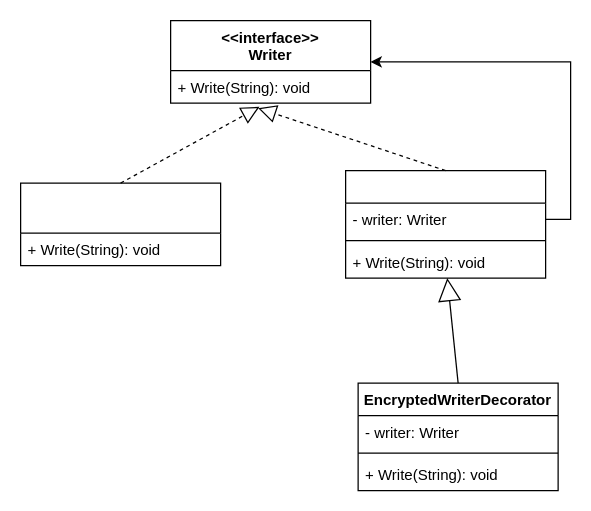
This 591x511 diagram has some shape labels left out. The box of each missing label's shape, as (x1, y1, x2, y2) in pixels:
EnglishWriter: (19, 182, 221, 266)
WriterDecorator: (344, 169, 546, 278)
